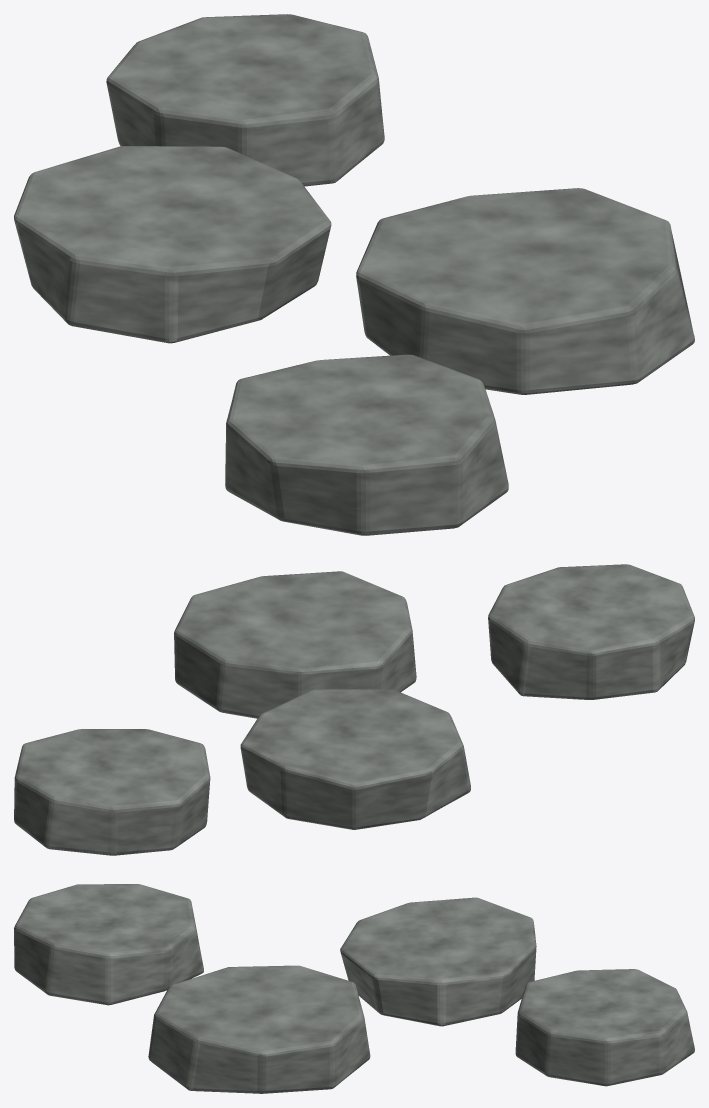
The model's file is GR_SteppingStones_03.glb.
3 views of the same model, one above another, from view 1: azimuth 30°, elevation 25°; view 2: azimuth 150°, elevation 25°; view 3: azimuth 270°, elevation 25° (orthographic). The views are drawn at different scales.
Visible parts, largest first — view 1: Static; view 2: Static; view 3: Static.
Part boxes in pixels (box(x1,y1,x2,y2)): Static: box(14, 14, 694, 535); Static: box(14, 564, 694, 855); Static: box(14, 884, 694, 1093).
Bounding box in the file's own units: 1.33 × 0.1835 × 2.23.
1 material, 1 textured.
